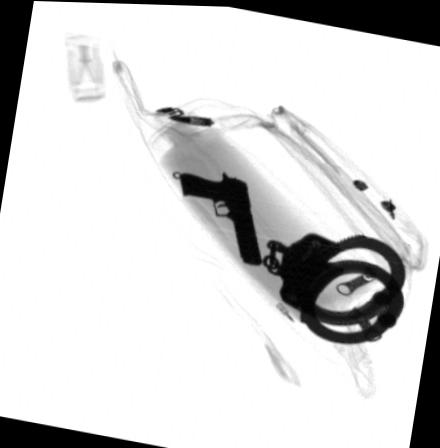Bullet: (167, 112, 212, 124)
Gun: (179, 169, 263, 264)
HandCuffs: (259, 229, 405, 342)
